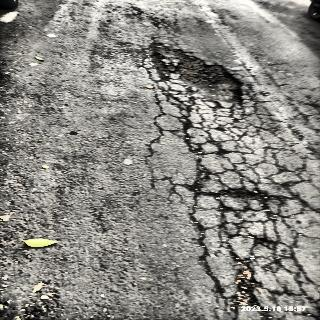alligator-crack: (141, 45, 320, 320)
pothole: (148, 41, 248, 106)
